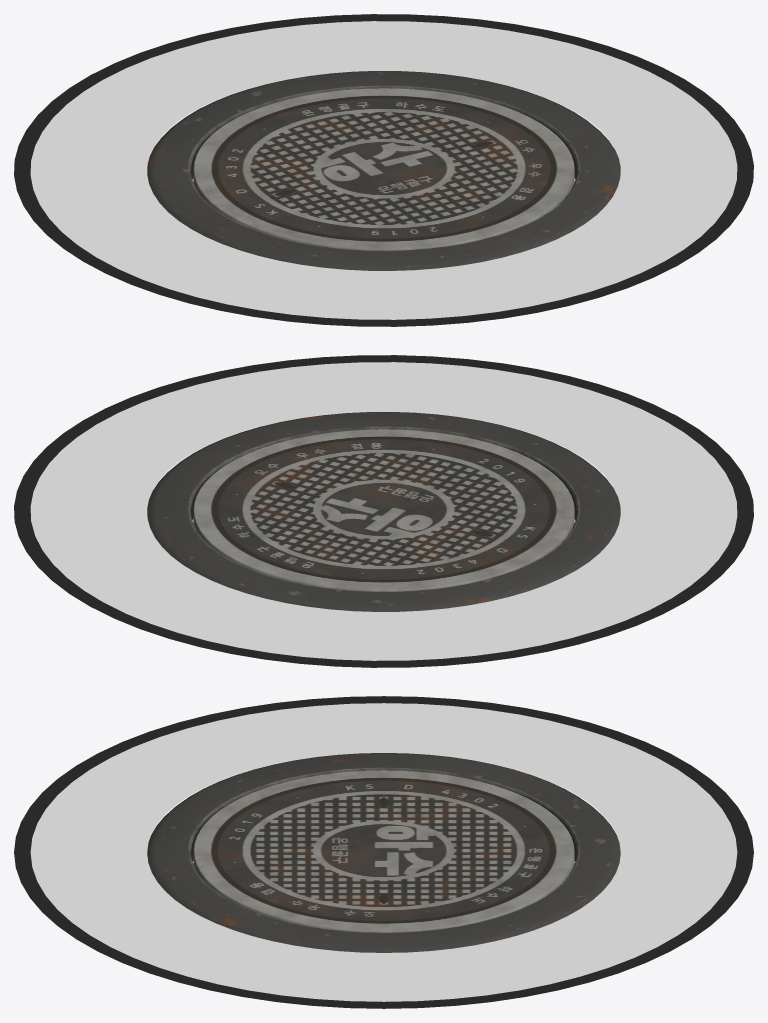
The model's file is StreetManhole.fbx.
3 renders of one model, top to bottom at view 1: azimuth 30°, elevation 25°; view 2: azimuth 150°, elevation 25°; view 3: azimuth 270°, elevation 25°, orthographic.
Visible parts, largest first — view 1: StreetManhole_Collar, StreetManhole_Body; view 2: StreetManhole_Collar, StreetManhole_Body; view 3: StreetManhole_Collar, StreetManhole_Body.
Part boxes in pixels (x1,y1,x2,y2): StreetManhole_Collar: (14, 14, 753, 326); StreetManhole_Body: (147, 71, 620, 270); StreetManhole_Collar: (14, 355, 753, 667); StreetManhole_Body: (147, 412, 620, 611); StreetManhole_Collar: (14, 696, 753, 1008); StreetManhole_Body: (147, 753, 620, 952).
Bounding box in the file's own units: 1.25 × 0.041 × 1.25.
